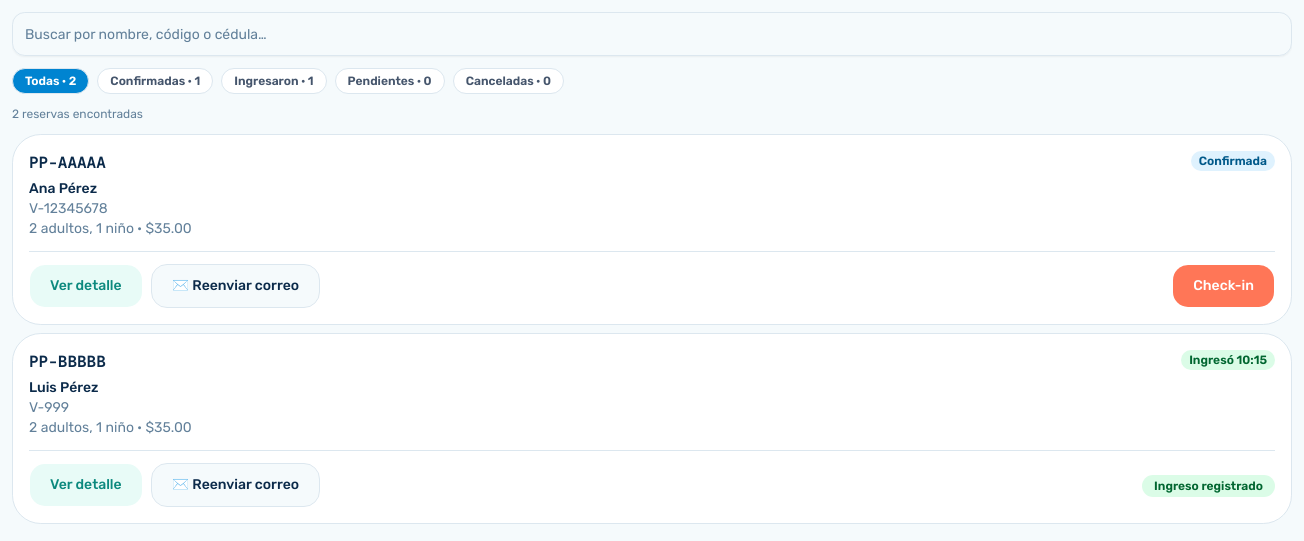
Test: ReservationsTable › filters rows by search text
Expected: the number of elements with test id "res-row" is 2, [12, 134, 1292, 325]; [12, 333, 1292, 524]
Type "luis" into the field with placeholder "Buscar por nombre, código o cédula…" at (652, 34), box [12, 12, 1292, 56]
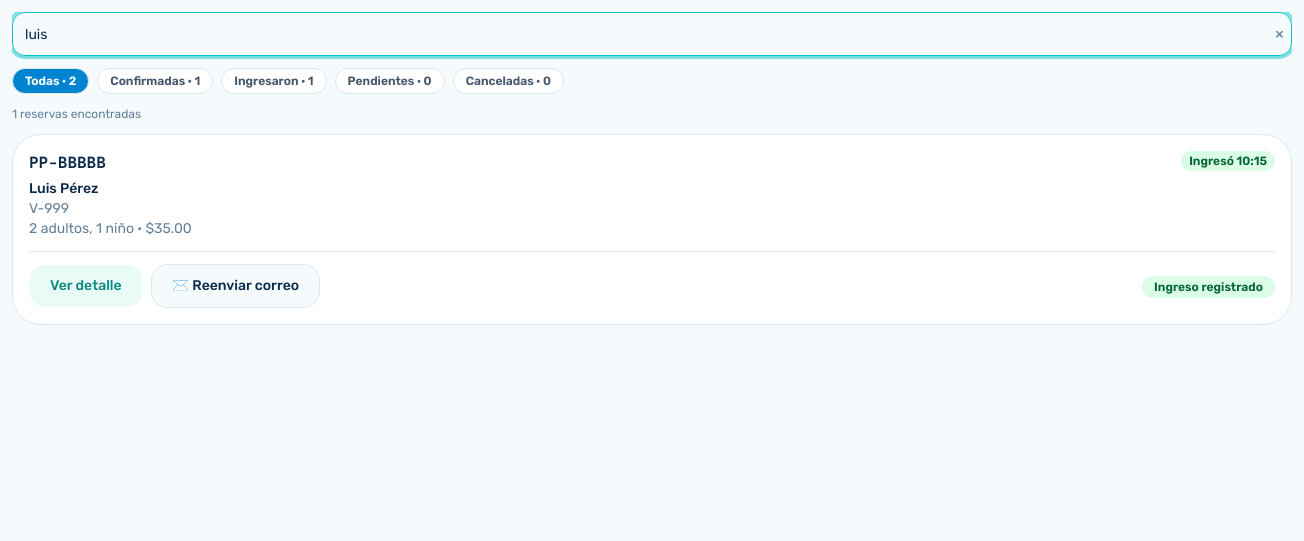
Expected: the number of elements with test id "res-row" is 1, [12, 134, 1292, 325]
